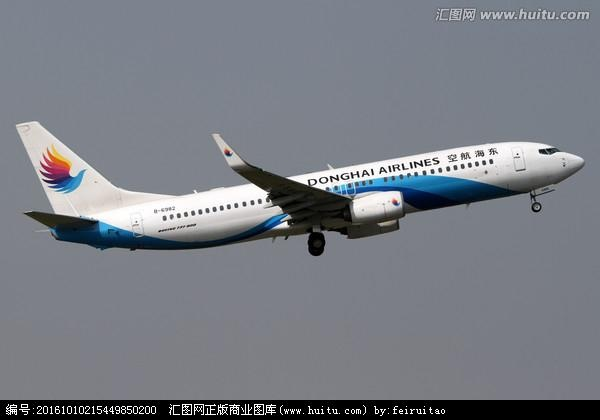airplane: (11, 103, 585, 264)
